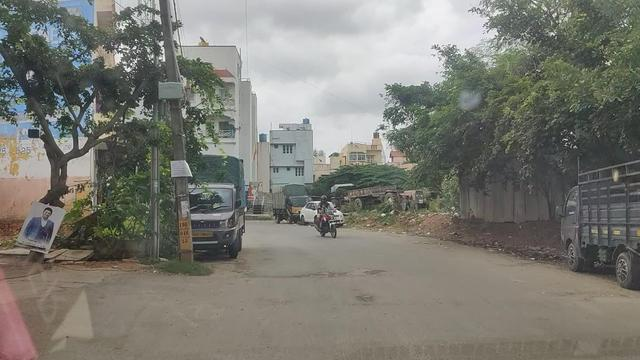LMV: (319, 194, 337, 240)
RoadDamages: (246, 269, 348, 280), (364, 266, 383, 276), (359, 293, 371, 306)
